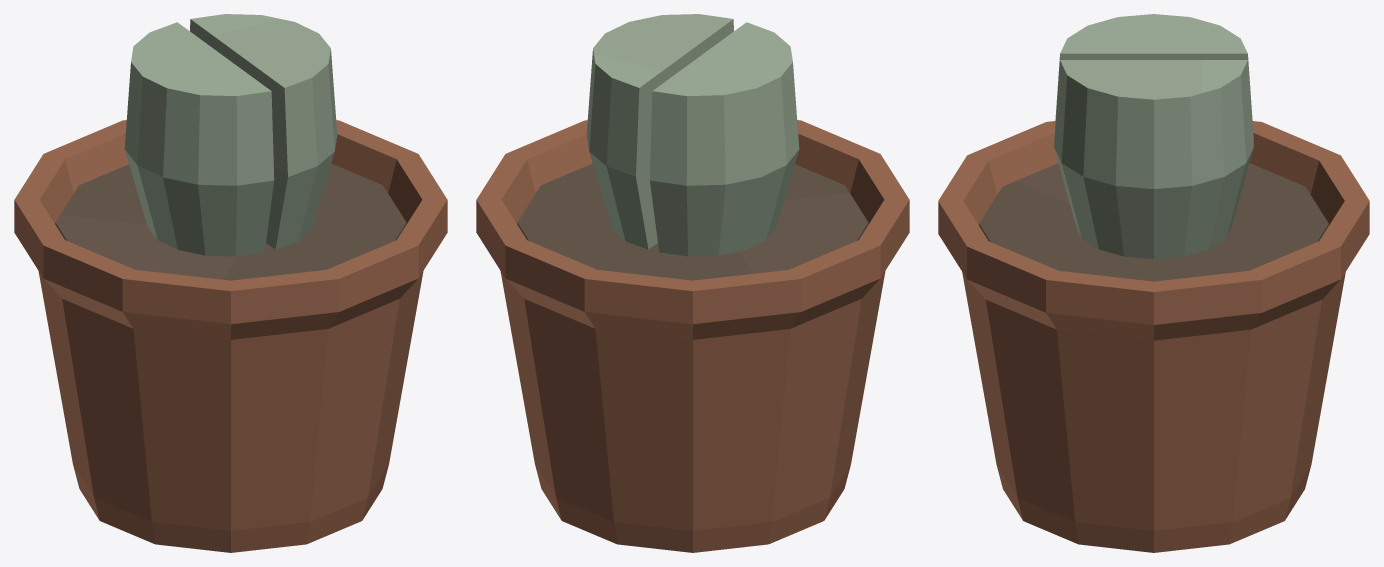
Rendered from new-nelii.glb.
The picture shows the model from 3 angles, left to right: view 1: azimuth 30°, elevation 25°; view 2: azimuth 150°, elevation 25°; view 3: azimuth 270°, elevation 25°; orthographic projection.
Visible parts, largest first — view 1: new-nelii/review-terra-vessel, new-nelii/fused-leaf-half-real-cleft-001, new-nelii/review-rooted-soil, new-nelii/fused-leaf-half-real-cleft-002; view 2: new-nelii/review-terra-vessel, new-nelii/fused-leaf-half-real-cleft-001, new-nelii/review-rooted-soil, new-nelii/fused-leaf-half-real-cleft-002; view 3: new-nelii/review-terra-vessel, new-nelii/fused-leaf-half-real-cleft-002, new-nelii/review-rooted-soil, new-nelii/fused-leaf-half-real-cleft-001.
Part boxes in pixels (box(x1,y1,x2,y2)): new-nelii/review-terra-vessel: box(14, 120, 447, 552); new-nelii/fused-leaf-half-real-cleft-001: box(124, 22, 274, 256); new-nelii/review-rooted-soil: box(55, 163, 406, 280); new-nelii/fused-leaf-half-real-cleft-002: box(190, 14, 337, 249); new-nelii/review-terra-vessel: box(476, 120, 909, 552); new-nelii/fused-leaf-half-real-cleft-001: box(649, 22, 799, 256); new-nelii/review-rooted-soil: box(517, 163, 868, 280); new-nelii/fused-leaf-half-real-cleft-002: box(586, 14, 733, 249); new-nelii/review-terra-vessel: box(938, 121, 1369, 552); new-nelii/fused-leaf-half-real-cleft-002: box(1054, 60, 1253, 258); new-nelii/review-rooted-soil: box(979, 163, 1328, 281); new-nelii/fused-leaf-half-real-cleft-001: box(1054, 14, 1253, 140).
Bounding box in the file's own units: 0.19 × 0.21 × 0.19.
Materials: 3 (3 with a texture image).
